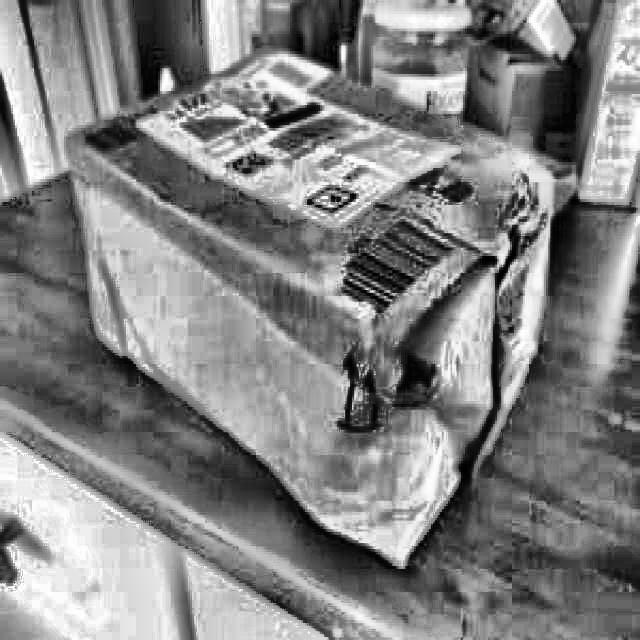box: (45, 55, 590, 578)
hole: (392, 332, 439, 416)
